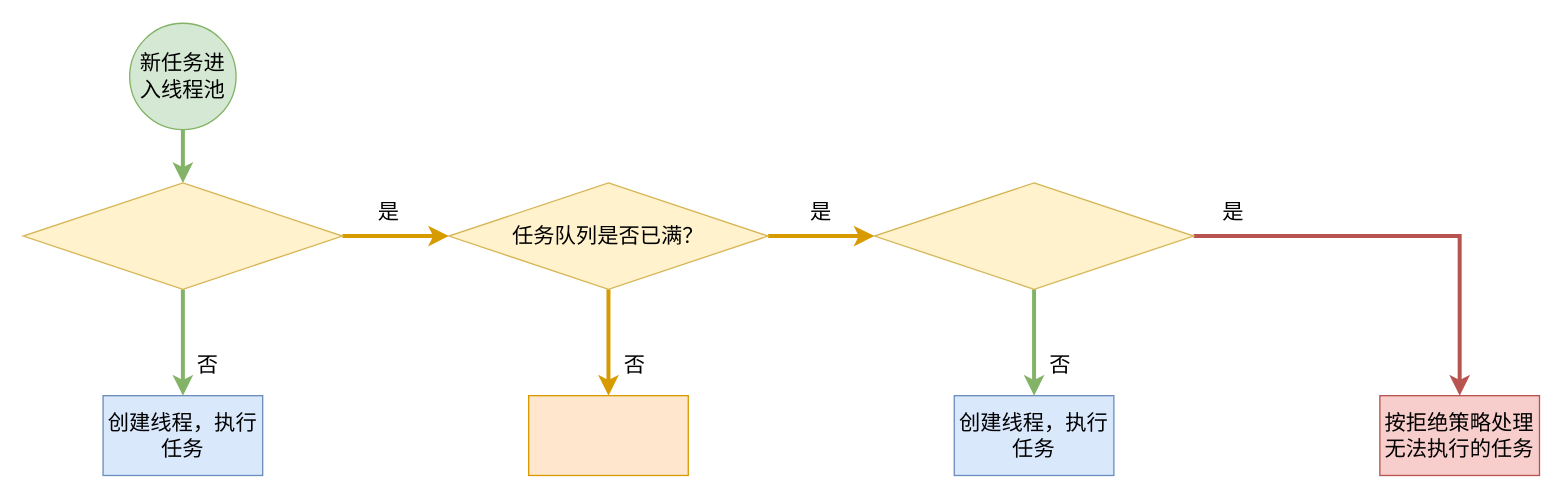
The diagram is 1563 pixels wide and 499 high, and some of its shapes have lost their labels. The centre of each missing label's shape, as x and y in pixels:
按任务存储到队列中: (x=607, y=434)
整个线程池是否已满？: (x=1033, y=235)
核心线程池是否已满？: (x=182, y=235)
